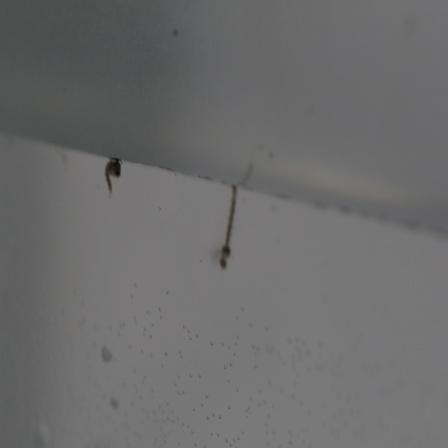Jentik-Nyamuk: (218, 182, 241, 269), (101, 154, 124, 194)
